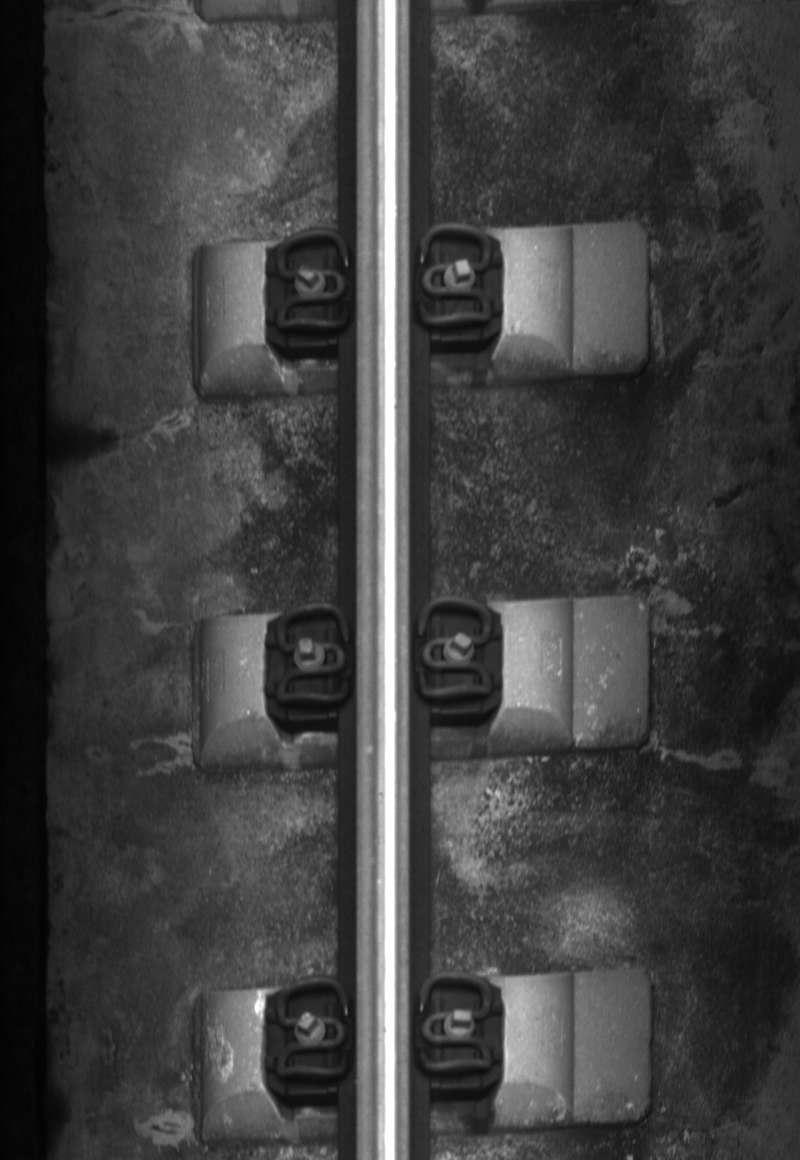l_faster: (269, 223, 355, 343), (270, 599, 354, 716), (270, 972, 354, 1087)
r_faster: (412, 595, 496, 706), (412, 221, 496, 332), (414, 970, 497, 1079)
